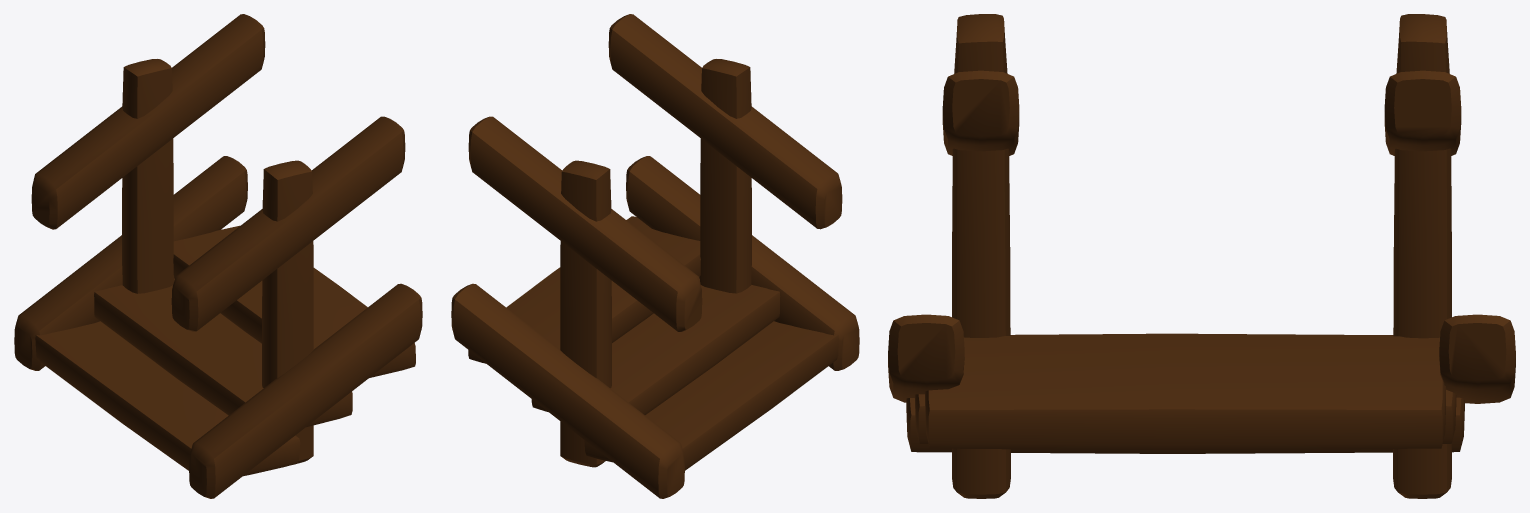
File: Stairs_Small.obj
The picture shows the model from 3 angles, left to right: view 1: azimuth 30°, elevation 25°; view 2: azimuth 150°, elevation 25°; view 3: azimuth 270°, elevation 25°; orthographic projection. The views are drawn at different scales.
Parts seen in each view (by area): view 1: Stairs_Small_Cube.309; view 2: Stairs_Small_Cube.309; view 3: Stairs_Small_Cube.309.
Part boxes in pixels (box(x1,y1,x2,y2)): Stairs_Small_Cube.309: box(14, 14, 422, 498); Stairs_Small_Cube.309: box(451, 14, 859, 498); Stairs_Small_Cube.309: box(888, 14, 1515, 498).
Bounding box in the file's own units: 1.64 × 2.23 × 2.56.
